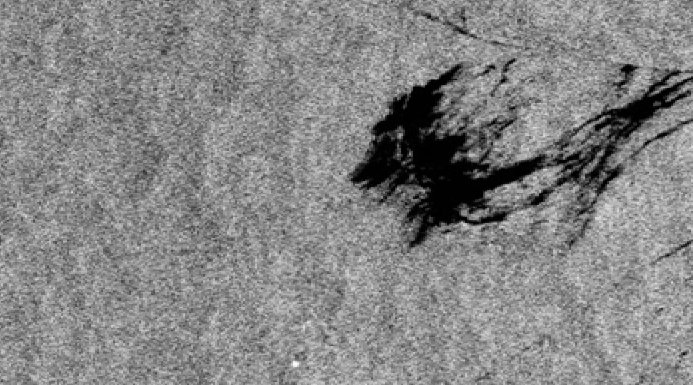anomaly: (340, 87, 690, 237)
